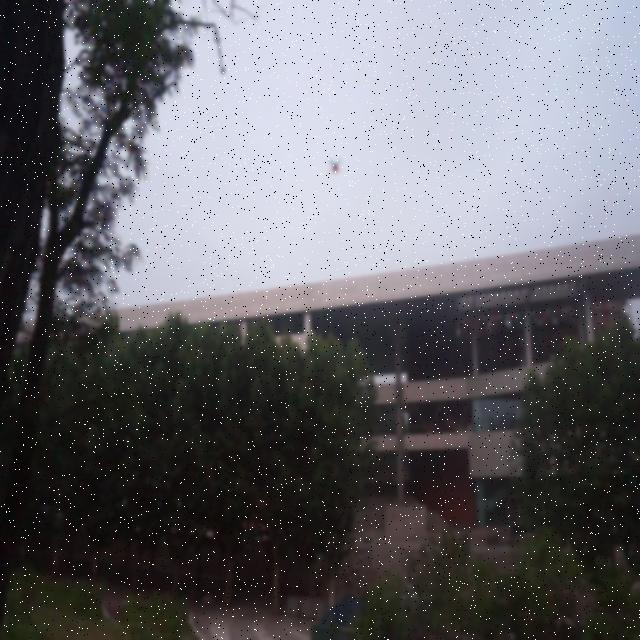UAV: (328, 158, 343, 174)
